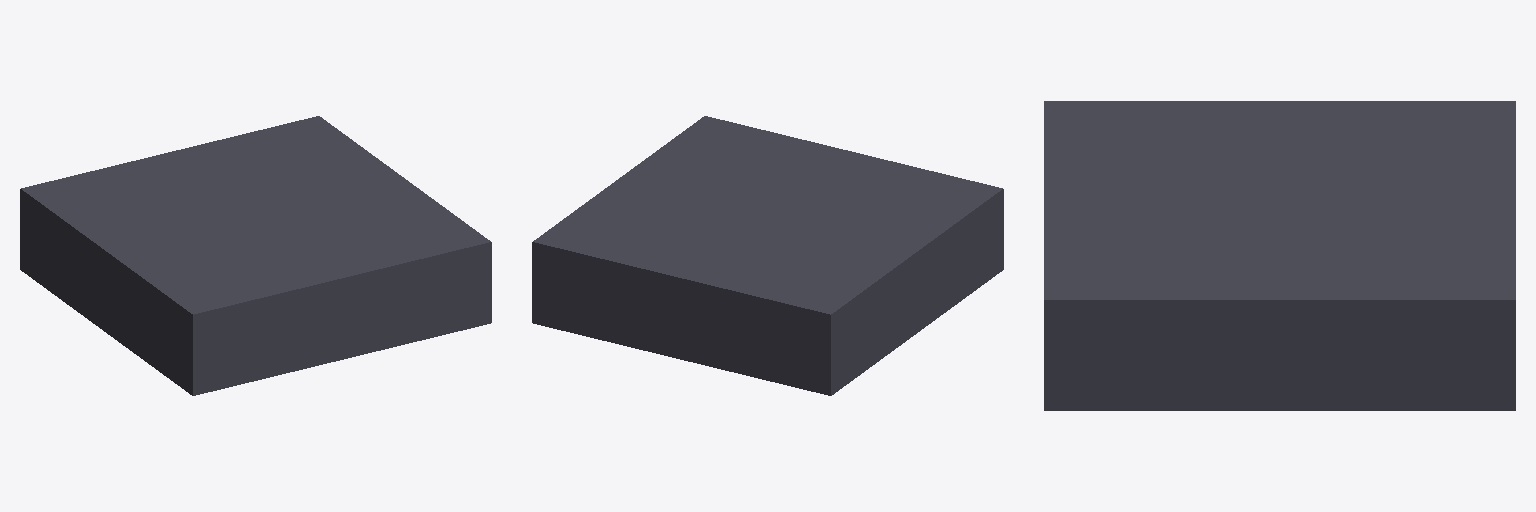
URDF robot description (drone):
<?xml version="1.0" ?>
<robot name="drone">
  <!-- PHANTOM's drone (H-tr/PHANTOM-Planner, phantom/robot/drone.urdf), with
       the floating base written as the package's virtual base joints.  A
       stabilized multirotor: the flight controller holds roll and pitch, so
       the body is position and yaw; the camera gimbal pans and tilts.  The
       collision footprint is one sphere of 0.30 m at the body centre.
       Velocity and acceleration limits live in drone_planning/drone.py. -->
  <link name="world" />
  <joint name="base_x_joint" type="prismatic">
    <parent link="world" />
    <child link="base_x_link" />
    <axis xyz="1 0 0" />
    <limit lower="-10" upper="10" effort="0" velocity="0" />
  </joint>
  <link name="base_x_link" />
  <joint name="base_y_joint" type="prismatic">
    <parent link="base_x_link" />
    <child link="base_y_link" />
    <axis xyz="0 1 0" />
    <limit lower="-10" upper="10" effort="0" velocity="0" />
  </joint>
  <link name="base_y_link" />
  <joint name="base_z_joint" type="prismatic">
    <parent link="base_y_link" />
    <child link="base_z_link" />
    <axis xyz="0 0 1" />
    <limit lower="0" upper="10" effort="0" velocity="0" />
  </joint>
  <link name="base_z_link" />
  <joint name="base_yaw_joint" type="revolute">
    <parent link="base_z_link" />
    <child link="base_link" />
    <axis xyz="0 0 1" />
    <limit lower="-3.141592653589793" upper="3.141592653589793" effort="0" velocity="0" />
  </joint>
  <link name="base_link">
    <!-- The centred sphere is the collision footprint. -->
    <collision>
      <origin xyz="0 0 0" rpy="0 0 0" />
      <geometry>
        <sphere radius="0.30" />
      </geometry>
    </collision>
    <visual>
      <origin xyz="0 0 0" rpy="0 0 0" />
      <geometry>
        <box size="0.46 0.46 0.12" />
      </geometry>
      <material name="body_grey">
        <color rgba="0.35 0.35 0.4 1" />
      </material>
    </visual>
  </link>
  <!-- The gimbal hangs below the body centre; positive pan turns left. -->
  <joint name="camera_pan" type="revolute">
    <origin xyz="0 0 -0.06" rpy="0 0 0" />
    <parent link="base_link" />
    <child link="gimbal" />
    <axis xyz="0 0 1" />
    <limit lower="-1.5707963267948966" upper="1.5707963267948966" effort="0" velocity="0" />
  </joint>
  <link name="gimbal" />
  <!-- Positive tilt raises the optical axis (x of the camera link); the
       lower limit looks straight down. -->
  <joint name="camera_tilt" type="revolute">
    <origin xyz="0 0 0" rpy="0 0 0" />
    <parent link="gimbal" />
    <child link="camera" />
    <axis xyz="0 -1 0" />
    <limit lower="-1.5707963267948966" upper="0.5235987755982988" effort="0" velocity="0" />
  </joint>
  <link name="camera">
    <visual>
      <origin xyz="0.04 0 0" rpy="0 0 0" />
      <geometry>
        <box size="0.08 0.06 0.04" />
      </geometry>
      <material name="camera_black">
        <color rgba="0.1 0.1 0.1 1" />
      </material>
    </visual>
  </link>
</robot>

--- What the picture shows (computed from the rendered views, not written in the file) ---
3 views of the same robot in one strip: view 1: azimuth 30°, elevation 25°; view 2: azimuth 150°, elevation 25°; view 3: azimuth 270°, elevation 25° (orthographic).
Model drone with 7 links and 6 joints (3 revolute, 3 prismatic), rooted at world, posed all joints at 0.
Visible links, largest first — view 1: base_link; view 2: base_link; view 3: base_link.
Boxes of the visible links, x1,y1,x2,y2 form: base_link: [20, 116, 491, 395]; base_link: [532, 116, 1003, 395]; base_link: [1044, 101, 1515, 410].
Size in the robot's own frame: 0.46 by 0.46 by 0.14 metres.
Geometry: primitives only (box / cylinder / sphere), no mesh files.
